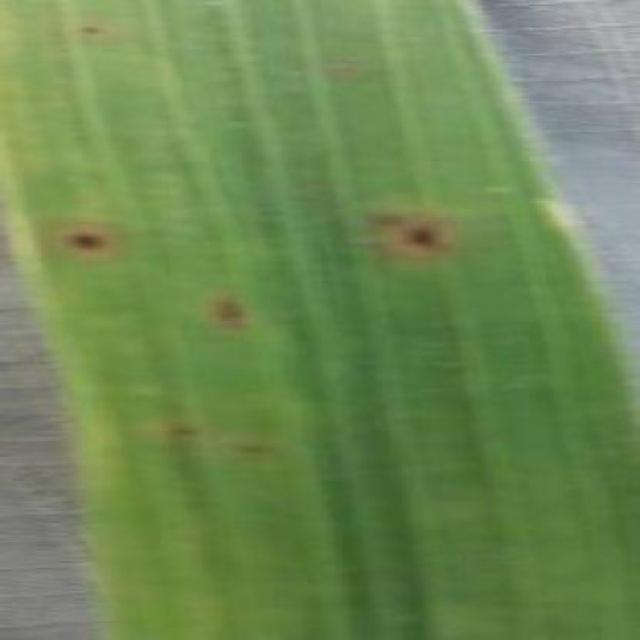Leaf_Blast: (195, 283, 263, 342), (50, 215, 121, 262), (390, 216, 452, 256), (222, 429, 287, 465), (353, 197, 409, 234), (0, 180, 20, 272), (68, 13, 115, 44), (160, 415, 206, 443), (322, 50, 364, 79), (429, 201, 471, 230)
